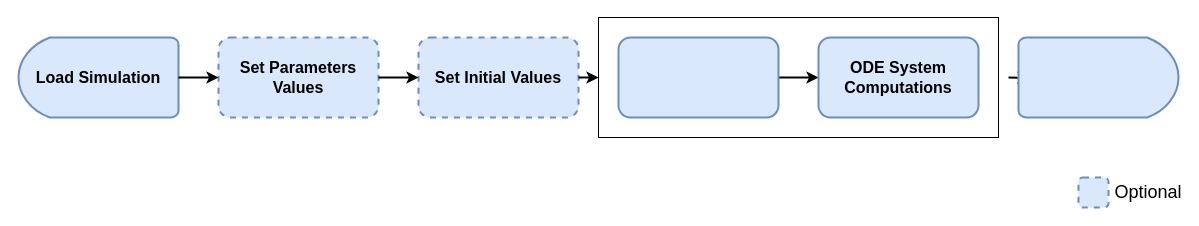
Some shapes in this 1199 by 226 pixel diagram are drawn without their labels. Here are the shapes that lost their labels. From the top down, the centre of each, then its label:
At (698,77): "Initialize Simulation Engine".
At (1098,77): "Simulation Results".
